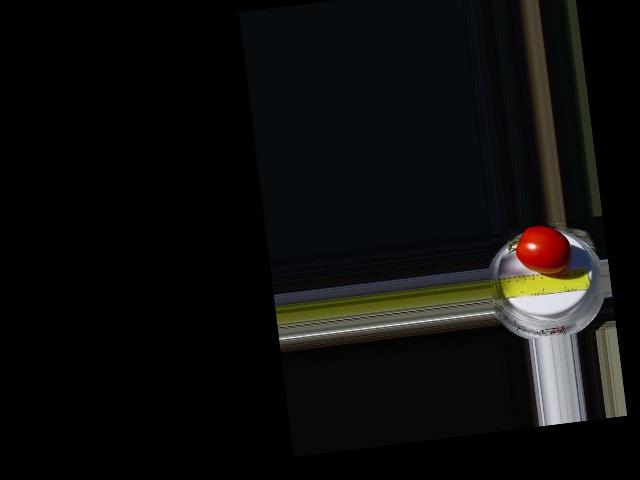tomato: (512, 221, 573, 278)
